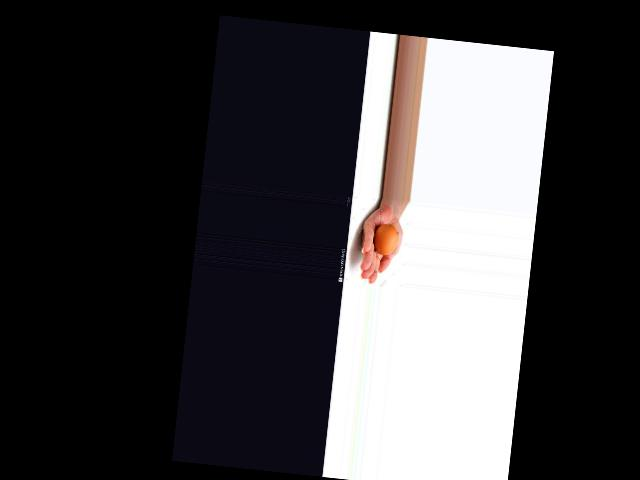egg: (372, 222, 400, 256)
